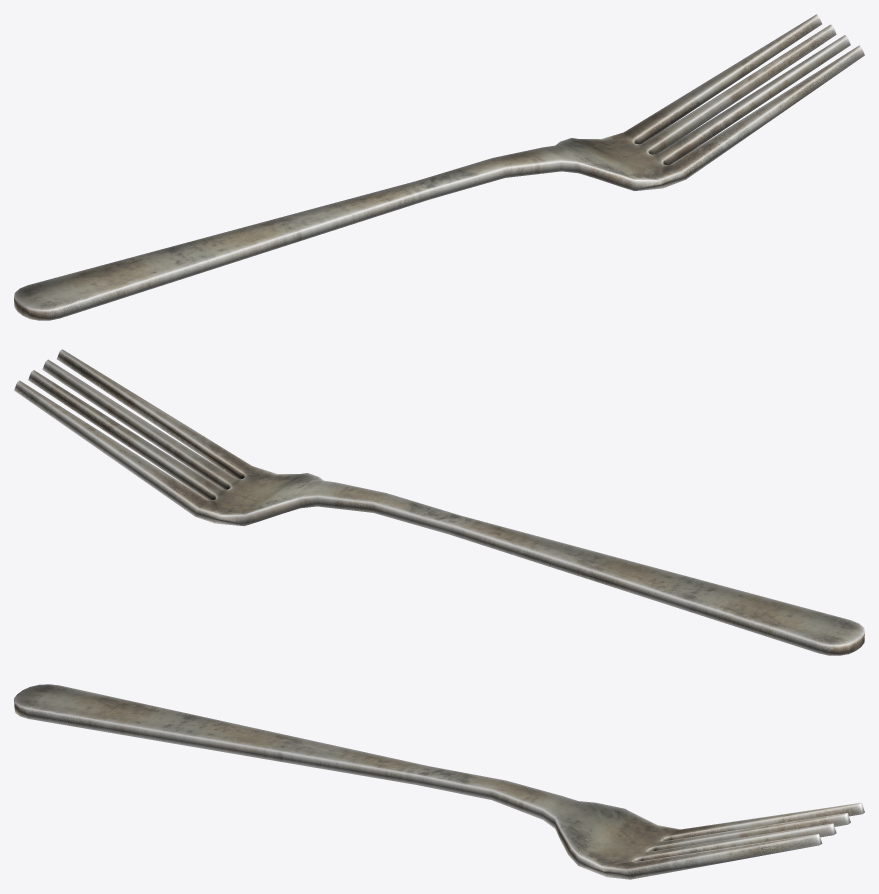
The model's file is SM_fork.fbx.
3 views of the same model, one above another, from view 1: azimuth 30°, elevation 25°; view 2: azimuth 150°, elevation 25°; view 3: azimuth 330°, elevation 25° (orthographic).
Parts seen in each view (by area): view 1: SM_fork; view 2: SM_fork; view 3: SM_fork.
Boxes of the visible parts, x1,y1,x2,y2 form: SM_fork: (14, 14, 864, 320); SM_fork: (14, 349, 864, 655); SM_fork: (14, 684, 864, 879).
Size of the model in its own units: 36.61 by 4.36 by 3.74.
Materials: 1 (1 with a texture image).
